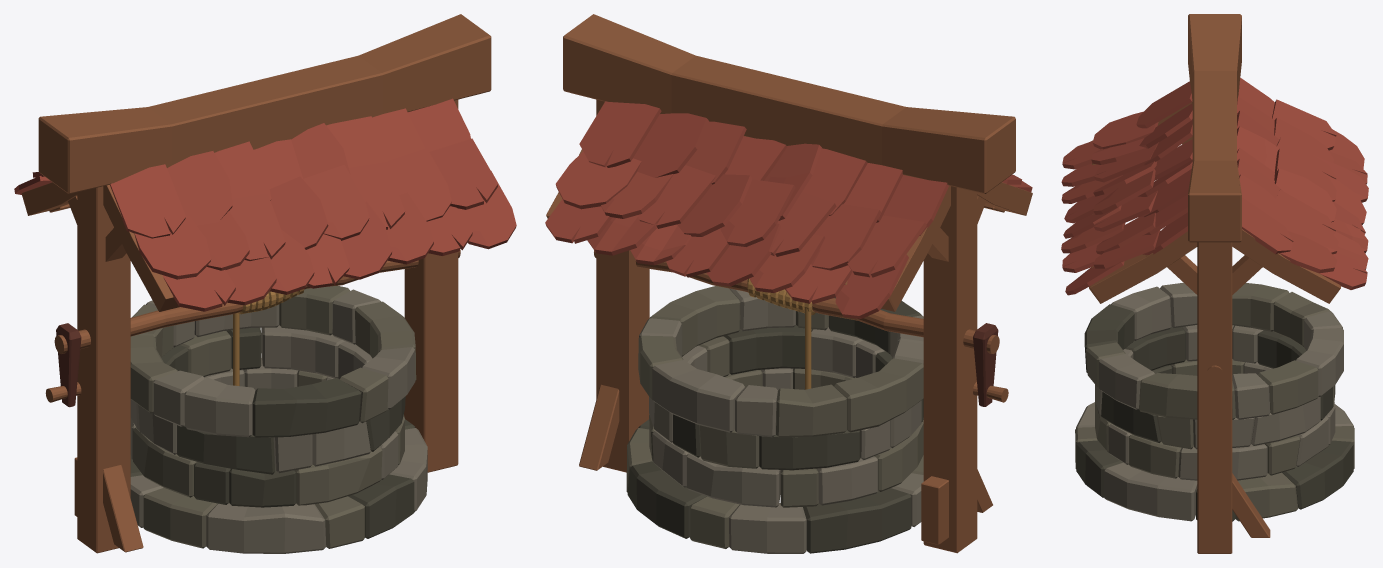
Rendered from WaterWell.fbx.
3 views of the same model, side by side, from view 1: azimuth 30°, elevation 25°; view 2: azimuth 150°, elevation 25°; view 3: azimuth 270°, elevation 25° (orthographic). The views are drawn at different scales.
Visible parts, largest first — view 1: Well Base; view 2: Well Base; view 3: Well Base.
Part boxes in pixels (x1,y1,x2,y2): Well Base: [14, 14, 516, 553]; Well Base: [545, 14, 1032, 553]; Well Base: [1061, 14, 1368, 553].
Bounding box in the file's own units: 123 × 118 × 87.95.
